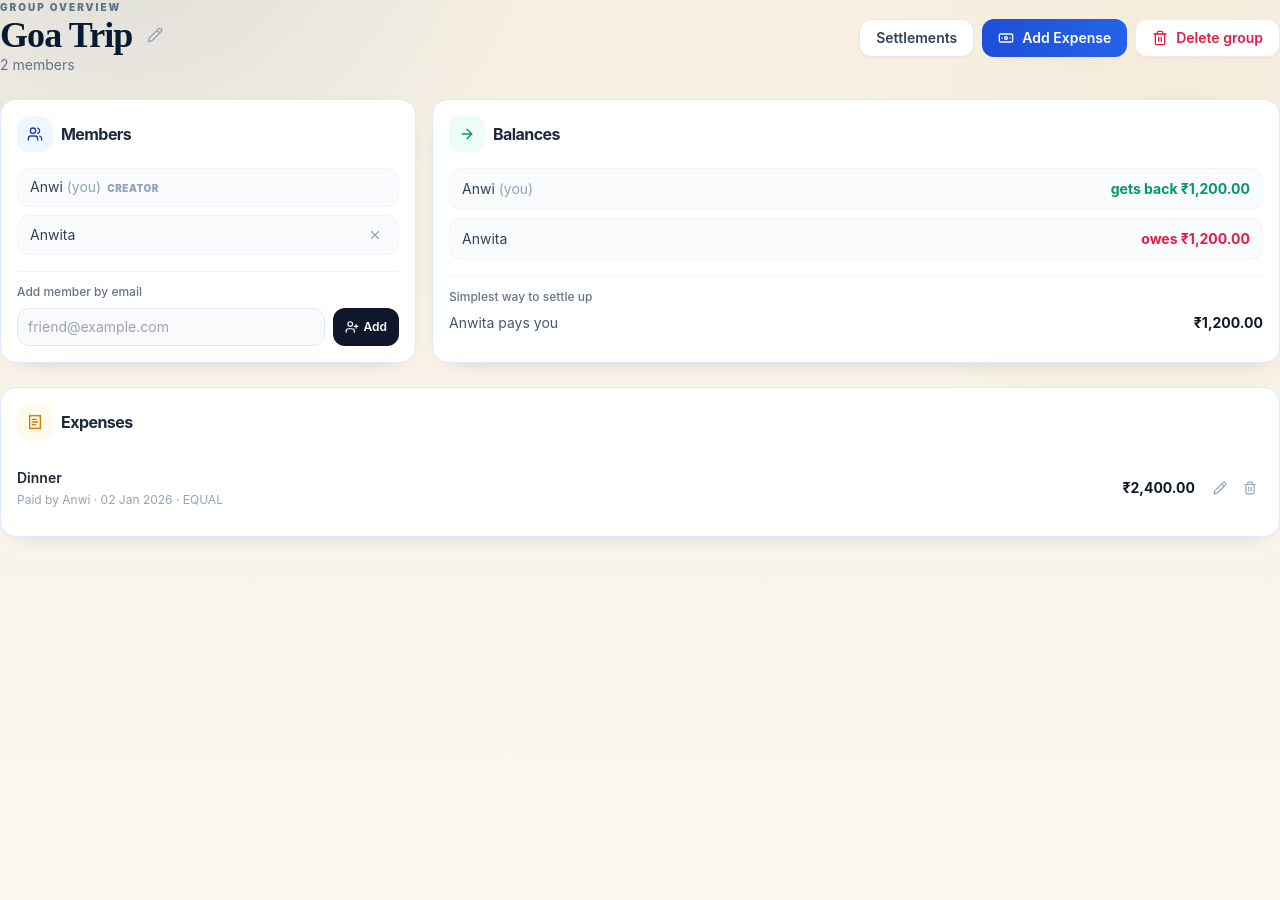
Test: GroupDetails › a blocked delete shows the server's reason and stays on the page
Click the button "Delete group": (1208, 38) [1135,18,1279,56]
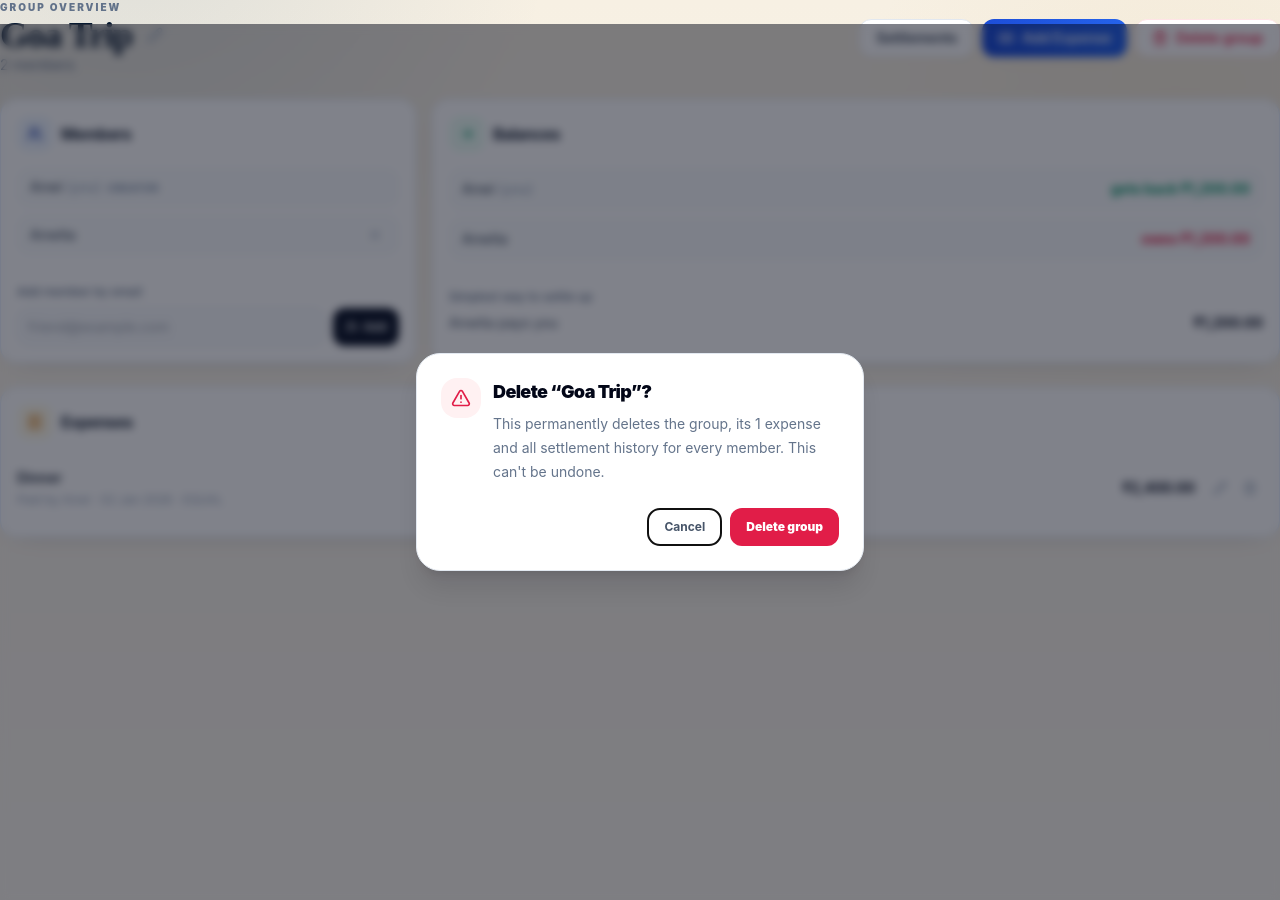
Click the button "Delete group": (785, 527) [730,508,839,546]
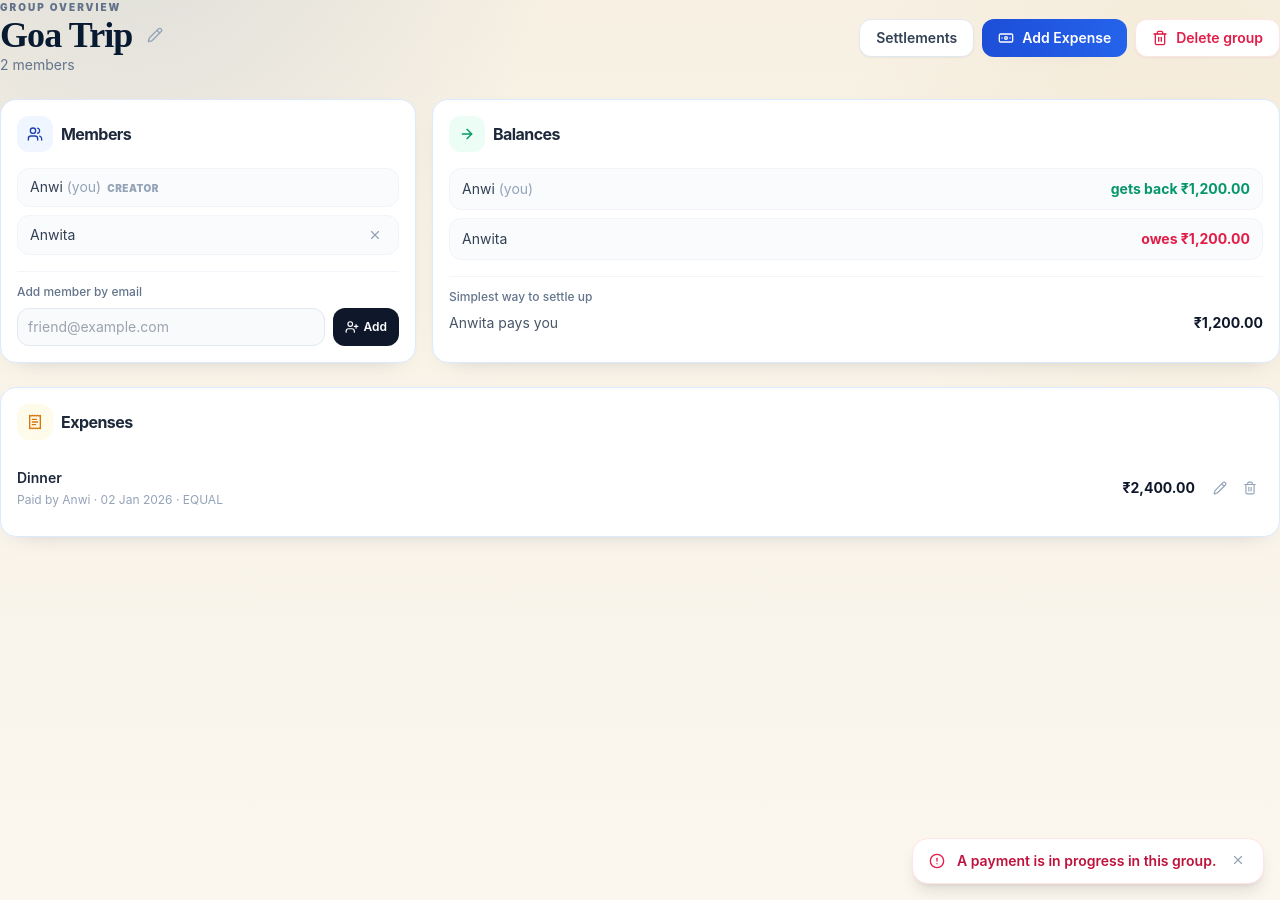
Check: the heading "Goa Trip" is shown, box [0,15,132,55]
Check: the text "A payment is in progress in this group." is shown, box [957,851,1217,871]
